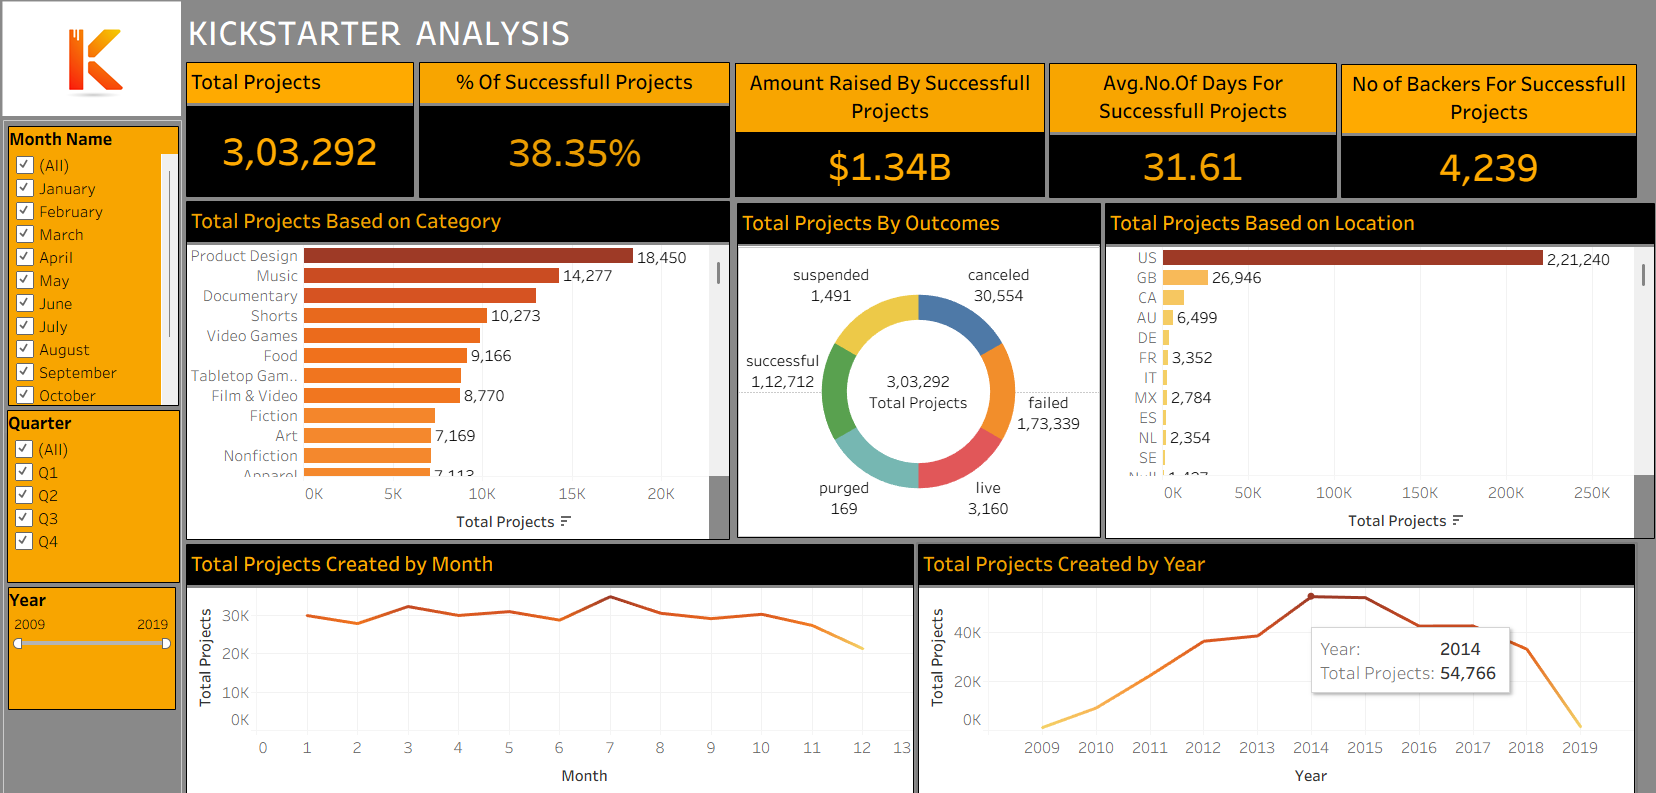

The dashboard page shown, as its layout file describes it:
{"tool":"tableau","page":{"name":"Dashboard 1","canvas":[1000,1000],"units":"permille","ordinal":0},"visuals":[{"type":"text","box":[111.3,1.2,880.5,77.4]},{"type":"image","param":"C:/Users/Rahul/OneDrive/Pictures/Saved Pictures/logo.jpg","box":[1.2,2.5,107.8,275.9]},{"type":"worksheet","title":"Total Projects","mark":"Automatic","box":[112.5,78.7,137.7,168.5]},{"type":"worksheet","title":"% Of Successfull Projects","mark":"Automatic","box":[252.9,78.7,187.7,169.8]},{"type":"worksheet","title":"Amount Raised By Successfull Projects","mark":"Automatic","box":[443.6,79.9,187.1,167.3]},{"type":"worksheet","title":"Avg.No.Of Days For Successfull Projects","mark":"Automatic","box":[633.1,79.9,173.8,168.5]},{"type":"worksheet","title":"No of Backers For Successfull Projects","mark":"Automatic","box":[809.3,81.2,178.6,167.3]},{"type":"filter","title":"Total Projects Based on Category","param":"[federated.046lfmi07mdzwk1ebu65m0n1ep55].[none:Month Name:nk]","box":[4.7,158.6,103.1,349.6]},{"type":"worksheet","title":"Total Projects Based on Category","mark":"Automatic","rows":["name (Category)"],"cols":["Calculation_2414773848691933184"],"box":[112.5,252.2,328.1,423.2]},{"type":"worksheet","title":"Total Projects By Outcomes","mark":"Pie","rows":["Calculation_2414773848696250376","Calculation_2414773848696250376"],"box":[444.8,254.7,219.7,418.2]},{"type":"worksheet","title":"Total Projects Based on Location","mark":"Automatic","rows":["country (Location)"],"cols":["Calculation_2414773848691933184"],"box":[666.9,254.7,331.9,419.5]},{"type":"filter","title":"Total Projects Based on Category","param":"[federated.046lfmi07mdzwk1ebu65m0n1ep55].[none:Quarter:nk]","box":[4.2,513.1,104.4,216]},{"type":"worksheet","title":"Total Projects Created by Month","mark":"Line","rows":["Calculation_2414773848691933184"],"cols":["Month"],"box":[112.5,680.4,439.4,312.1]},{"type":"worksheet","title":"Total Projects Created by Year","mark":"Line","rows":["Calculation_2414773848691933184"],"cols":["Year"],"box":[554.2,680.4,432.9,312.1]},{"type":"filter","title":"Total Projects Based on Category","param":"[federated.046lfmi07mdzwk1ebu65m0n1ep55].[none:Year:qk]","box":[4.8,734.1,101.4,153.6]}]}

Visuals, with their boxes on the dashboard's canvas, which has no fixed pixel size, in thousandths of its width and height (x1, y1, x2, y2). These are canvas units, not pixel positions in the 1656x793 screenshot, which may show the page scaled, cropped or inside an application window:
text: select_region(111, 1, 992, 79)
image: select_region(1, 2, 109, 278)
"Total Projects" worksheet: select_region(112, 79, 250, 247)
"% Of Successfull Projects" worksheet: select_region(253, 79, 441, 248)
"Amount Raised By Successfull Projects" worksheet: select_region(444, 80, 631, 247)
"Avg.No.Of Days For Successfull Projects" worksheet: select_region(633, 80, 807, 248)
"No of Backers For Successfull Projects" worksheet: select_region(809, 81, 988, 248)
"Total Projects Based on Category" filter: select_region(5, 159, 108, 508)
"Total Projects Based on Category" worksheet: select_region(112, 252, 441, 675)
"Total Projects By Outcomes" worksheet (Pie marks): select_region(445, 255, 664, 673)
"Total Projects Based on Location" worksheet: select_region(667, 255, 999, 674)
"Total Projects Based on Category" filter: select_region(4, 513, 109, 729)
"Total Projects Created by Month" worksheet (Line marks): select_region(112, 680, 552, 992)
"Total Projects Created by Year" worksheet (Line marks): select_region(554, 680, 987, 992)
"Total Projects Based on Category" filter: select_region(5, 734, 106, 888)
